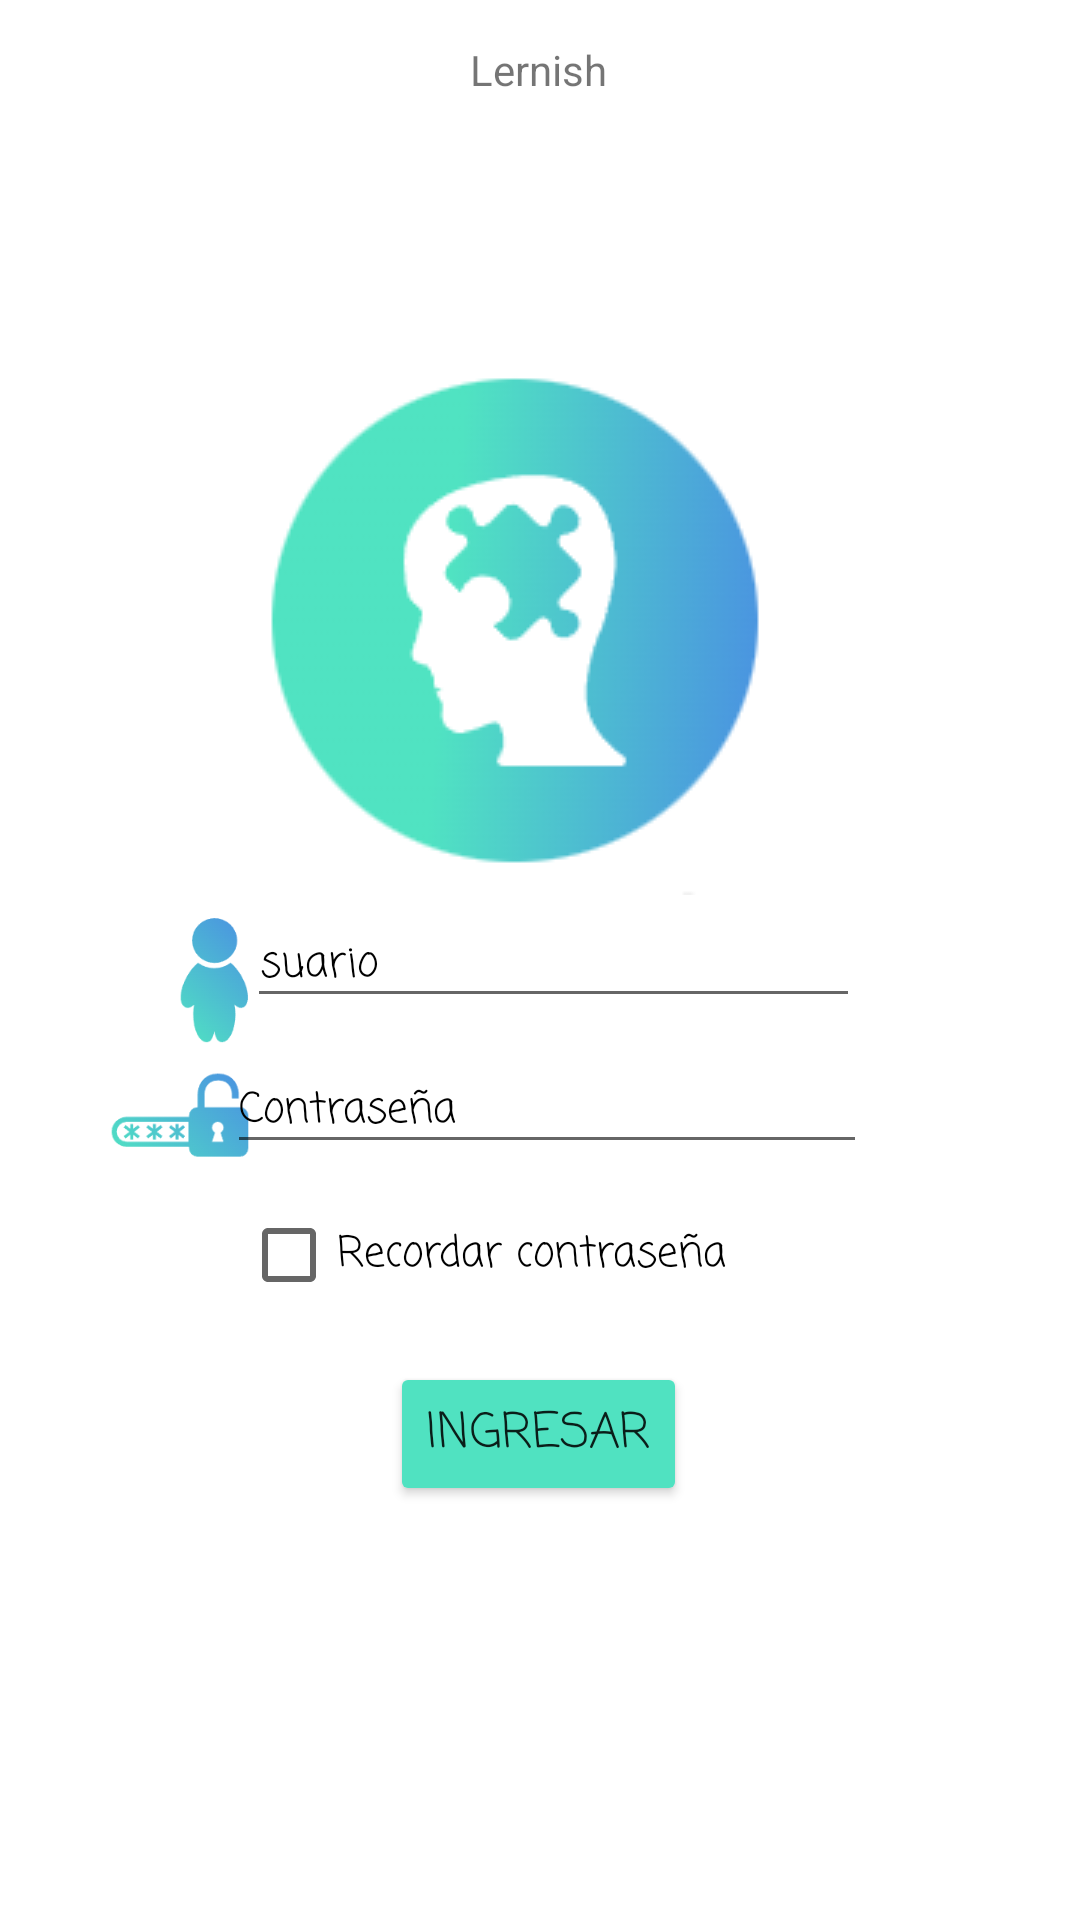

Icon bounding boxes for this 1080×1920 phone screenshot, format box(x1, y1, x2, y2):
persona: box(180, 918, 278, 1043)
